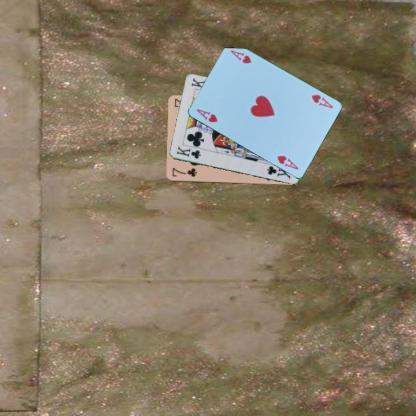7c: (169, 166, 198, 178)
Ah: (308, 92, 334, 110), (194, 106, 218, 124)
Kc: (174, 144, 202, 160)
